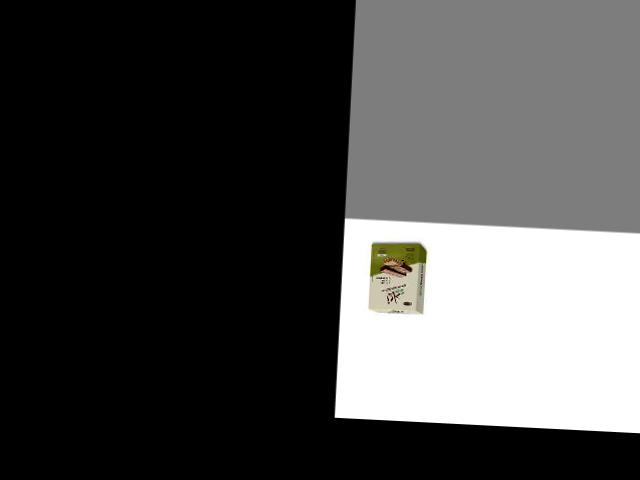chocolate: (366, 239, 431, 315)
